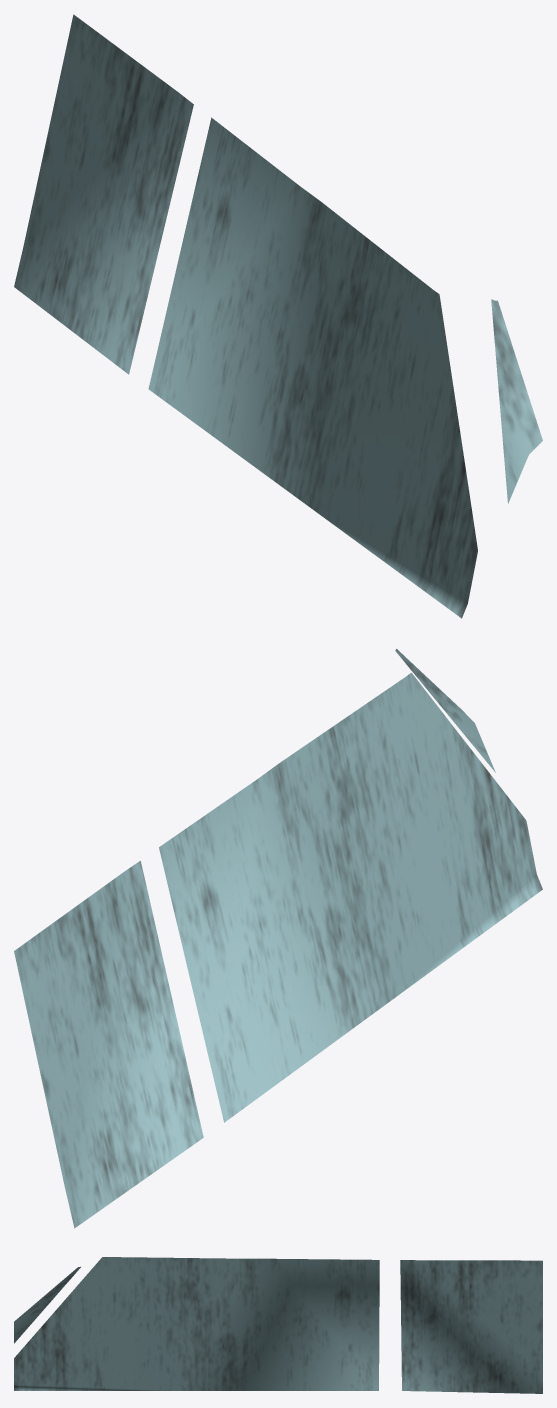
The model's file is glass-left.glb.
3 views of the same model, one above another, from view 1: azimuth 30°, elevation 25°; view 2: azimuth 150°, elevation 25°; view 3: azimuth 270°, elevation 25° (orthographic). The views are drawn at different scales.
Size of the model in its own units: 0.1543 by 0.4202 by 1.34.
1 material, 1 textured.
